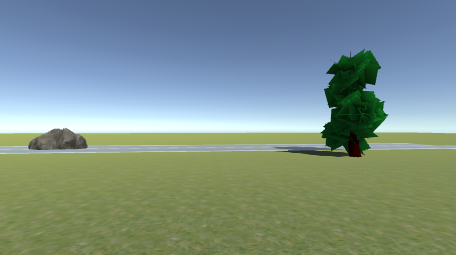rock: (27, 127, 88, 150)
tree: (321, 49, 390, 161)
